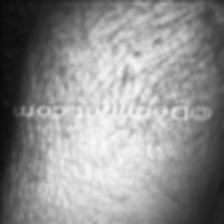Non-Cancerous Skin Condition: (72, 0, 200, 69), (25, 131, 78, 204)
